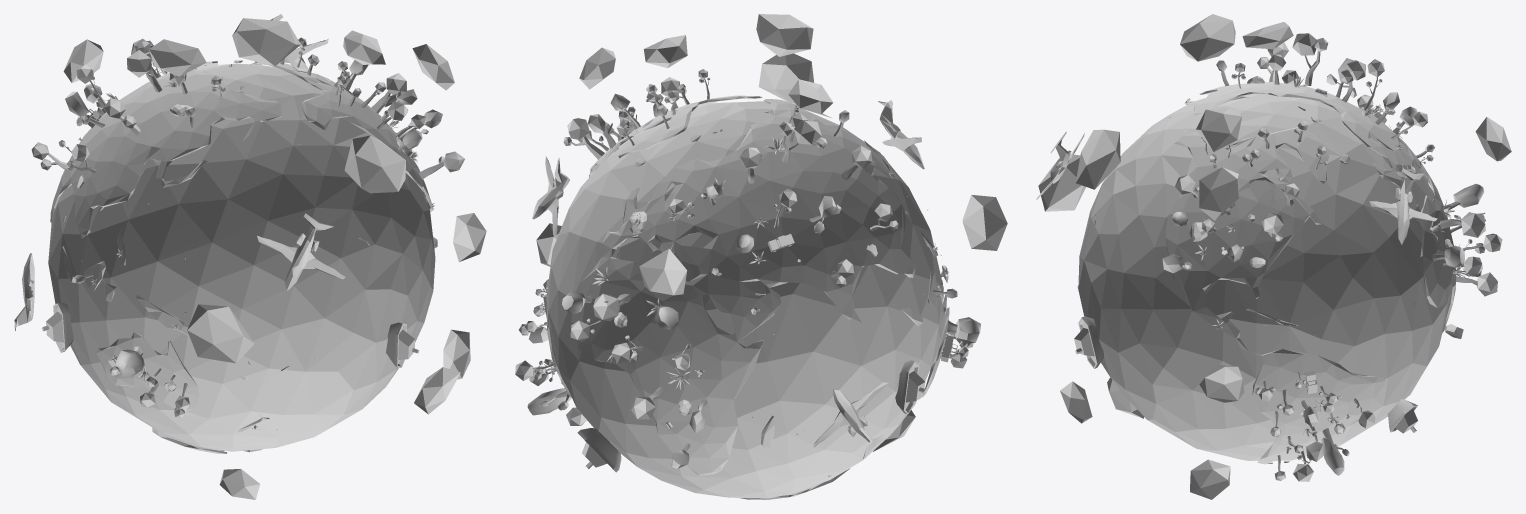
Rendered from earth_modi1_compressed.glb.
3 views of the same model, side by side, from view 1: azimuth 30°, elevation 25°; view 2: azimuth 150°, elevation 25°; view 3: azimuth 270°, elevation 25° (orthographic). The views are drawn at different scales.
Visible parts, largest first — view 1: Cartoon_earth_world_map, cloud_4.1, cloud_4.2, cloud_4, plane.2, cloud_3, cloud_2.2, cloud_1.1, cloud_1, cloud_1.2, cloud_2, ship.2 (+9 smaller); view 2: Cartoon_earth_world_map, cloud_4.1, cloud_4, cloud_4.2, cloud_2.1, plane.1, ship, plane, ship.2, plane.2, cloud_2, cloud_3 (+8 smaller); view 3: Cartoon_earth_world_map, cloud_4.2, cloud_4, cloud_1, cloud_4.1, cloud_2, plane, cloud_2.2, cloud_1.2, ship.1, cloud_2.1, cloud_3 (+8 smaller).
Part boxes in pixels (left/top/right/bottom): Cartoon_earth_world_map: left=48, top=60, right=435, bottom=453; cloud_4.1: left=187, top=304, right=254, bottom=363; cloud_4.2: left=344, top=135, right=405, bottom=193; cloud_4: left=232, top=18, right=300, bottom=66; plane.2: left=257, top=213, right=345, bottom=290; cloud_3: left=149, top=39, right=206, bottom=76; cloud_2.2: left=453, top=213, right=486, bottom=261; cloud_1.1: left=414, top=367, right=460, bottom=414; cloud_1: left=412, top=44, right=454, bottom=90; cloud_1.2: left=443, top=329, right=470, bottom=379; cloud_2: left=343, top=30, right=385, bottom=64; ship.2: left=41, top=302, right=73, bottom=352; Cartoon_earth_world_map: left=546, top=95, right=949, bottom=499; cloud_4.1: left=962, top=195, right=1007, bottom=250; cloud_4: left=756, top=14, right=813, bottom=56; cloud_4.2: left=758, top=53, right=814, bottom=102; cloud_2.1: left=639, top=248, right=687, bottom=301; plane.1: left=813, top=382, right=889, bottom=458; ship: left=577, top=428, right=621, bottom=472; plane: left=532, top=156, right=569, bottom=236; ship.2: left=895, top=360, right=926, bottom=414; plane.2: left=878, top=100, right=924, bottom=169; cloud_2: left=643, top=35, right=687, bottom=68; cloud_3: left=788, top=79, right=833, bottom=114; Cartoon_earth_world_map: left=1077, top=82, right=1456, bottom=464; cloud_4.2: left=1075, top=129, right=1120, bottom=189; cloud_4: left=1180, top=14, right=1235, bottom=61; cloud_1: left=1199, top=167, right=1238, bottom=220; cloud_4.1: left=1038, top=154, right=1085, bottom=211; cloud_2: left=1196, top=108, right=1241, bottom=151; plane: left=1369, top=168, right=1437, bottom=244; cloud_2.2: left=1199, top=365, right=1244, bottom=402; cloud_1.2: left=1190, top=459, right=1230, bottom=499; ship.1: left=1074, top=316, right=1103, bottom=368; cloud_2.1: left=1475, top=117, right=1511, bottom=161; cloud_3: left=1242, top=22, right=1293, bottom=49.
Size of the model in its own units: 1056 by 1082 by 1111.
Materials: 1 (1 with a texture image).
